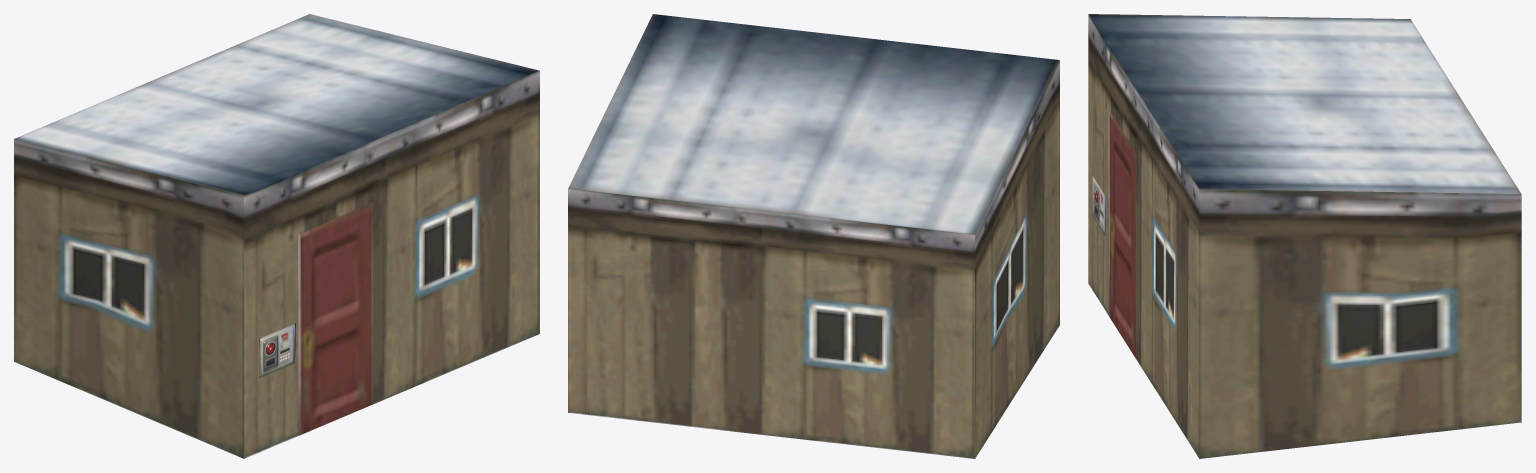
File: labshak.glb
The picture shows the model from 3 angles, left to right: view 1: azimuth 30°, elevation 25°; view 2: azimuth 150°, elevation 25°; view 3: azimuth 270°, elevation 25°; orthographic projection. The views are drawn at different scales.
Parts seen in each view (by area): view 1: labshak; view 2: labshak; view 3: labshak.
Boxes of the visible parts, x1=… form: labshak: x1=14, y1=14, x2=539, y2=458; labshak: x1=568, y1=14, x2=1059, y2=458; labshak: x1=1088, y1=14, x2=1521, y2=458.
Size of the model in its own units: 749 by 446 by 648.
Materials: 1 (1 with a texture image).
